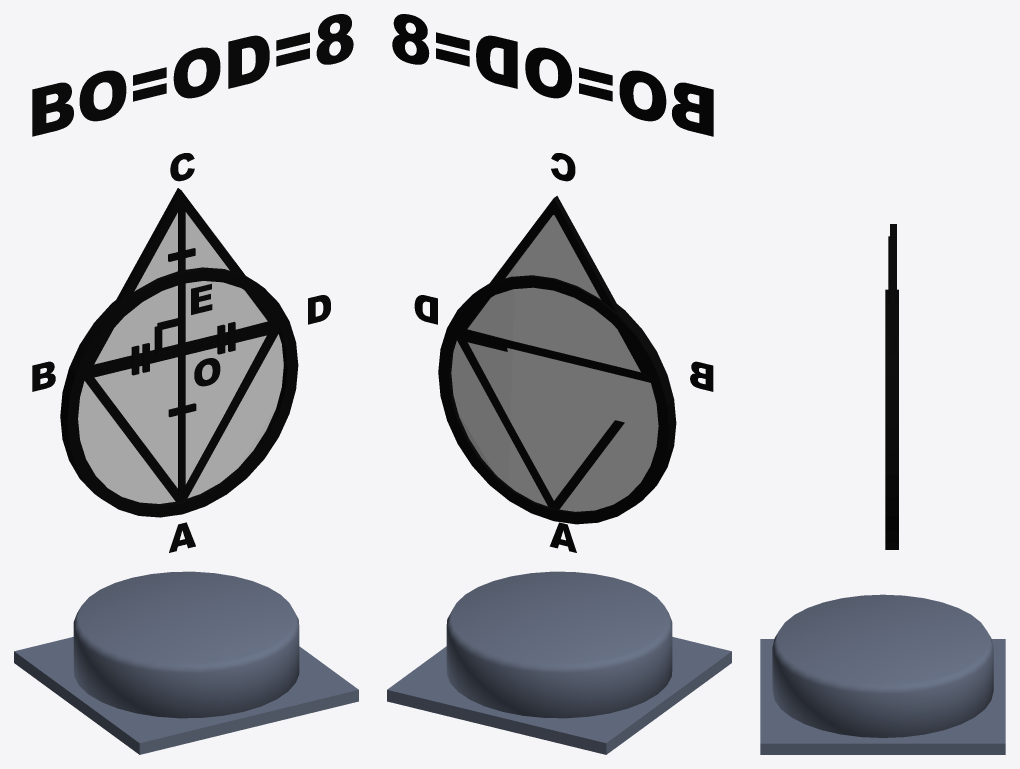
The picture shows the model from 3 angles, left to right: view 1: azimuth 30°, elevation 25°; view 2: azimuth 150°, elevation 25°; view 3: azimuth 270°, elevation 25°; orthographic projection. The views are drawn at different scales.
Visible parts, largest first — view 1: Cube.002, Cylinder, Cube, Circle, Text.008, Cone.001, Cone, Cube.001; view 2: Cube.002, Cylinder, Cube, Circle, Text.008, Cone, Cone.001; view 3: Cylinder, Cube, Circle, Cone.
Boxes of the visible parts, x1,y1,x2,y2 form: Cube.002: [78, 212, 283, 503]; Cylinder: [73, 571, 299, 718]; Cube: [14, 637, 358, 754]; Circle: [60, 267, 298, 517]; Text.008: [32, 14, 353, 136]; Cone.001: [84, 325, 279, 501]; Cone: [88, 188, 276, 370]; Cube.001: [178, 204, 185, 501]; Cube.002: [451, 215, 658, 511]; Cylinder: [446, 571, 672, 718]; Cube: [387, 637, 731, 754]; Circle: [438, 275, 676, 524]; Text.008: [392, 14, 713, 136]; Cone: [457, 196, 650, 382]; Cone.001: [456, 336, 624, 509]; Cylinder: [772, 594, 993, 737]; Cube: [760, 639, 1005, 754]; Circle: [885, 289, 898, 549]; Cone: [890, 224, 896, 354].
Size of the model in its own units: 13.41 by 25.18 by 9.09.
